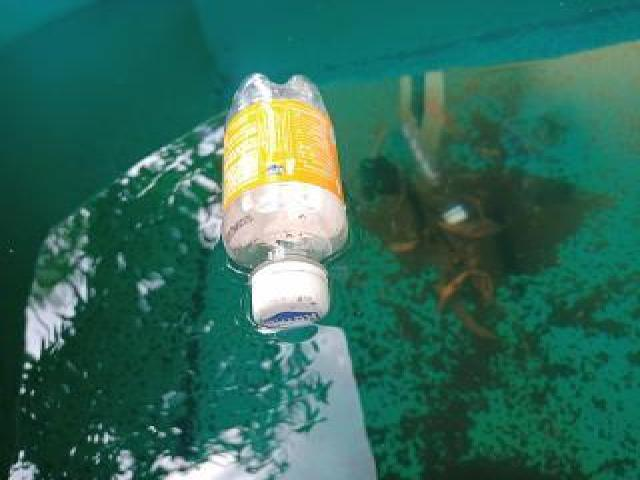Bottle: (202, 59, 375, 342)
